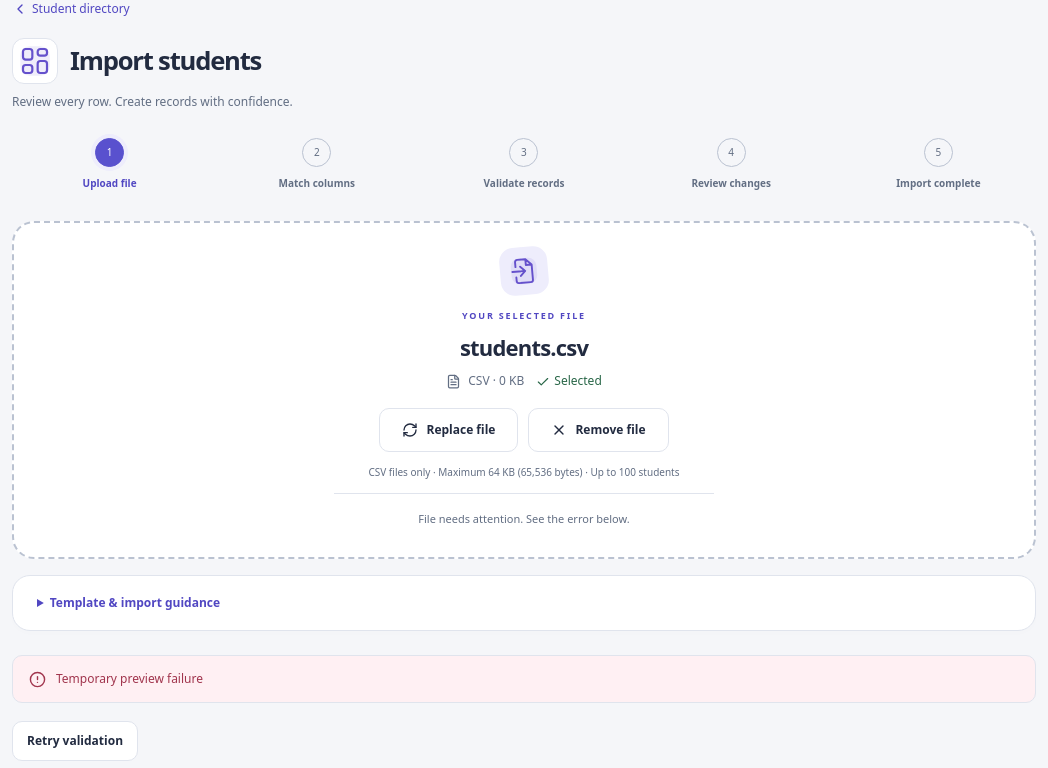
keeps the CSV on preview failure and retries with server-suggested mapping
Earlier steps of the test are not shown.
Expected: the message "Temporary preview failure" is shown, x1=12 y1=655 x2=1036 y2=703
Expected: the heading "students.csv" is shown, x1=460 y1=333 x2=588 y2=362
Step 1. Click the button "Retry validation" → (75, 741), box x1=12 y1=721 x2=138 y2=761
(page scrolled)
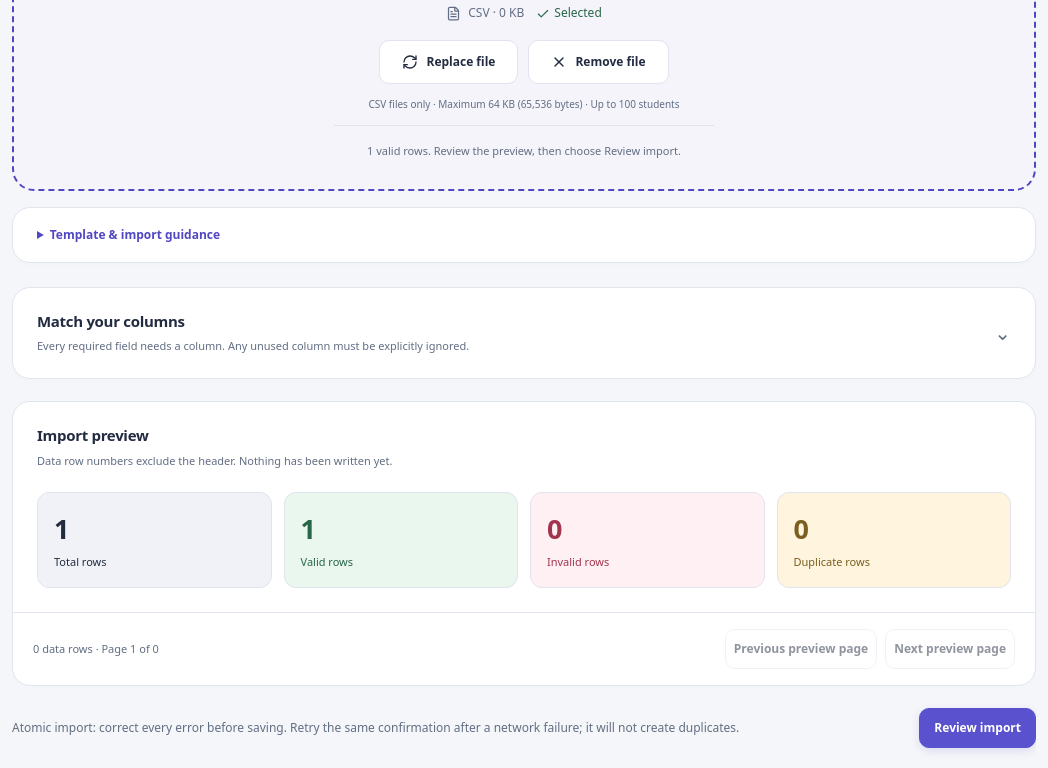
Expected: the button "Review import" is enabled, x1=919 y1=708 x2=1036 y2=748
